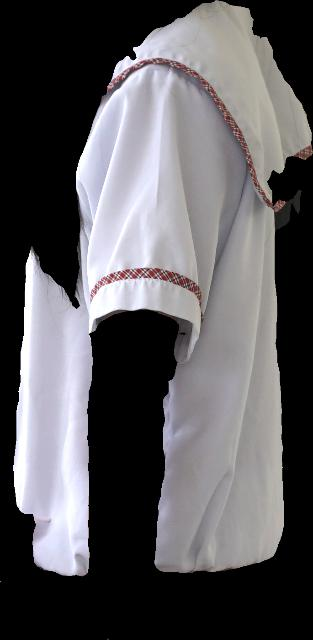pologirl: (14, 0, 312, 576)
